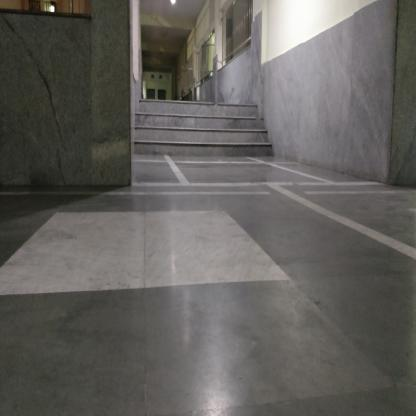stairs: (141, 100, 258, 159)
